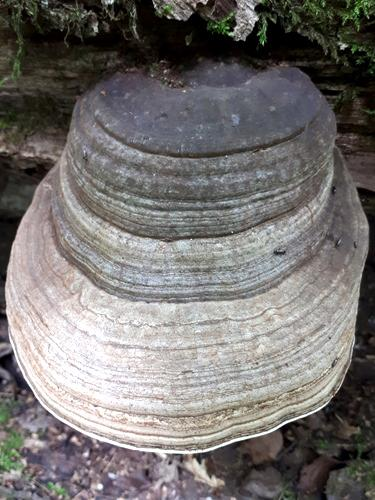Ganoderma - Fruit Body: (8, 62, 369, 452)
